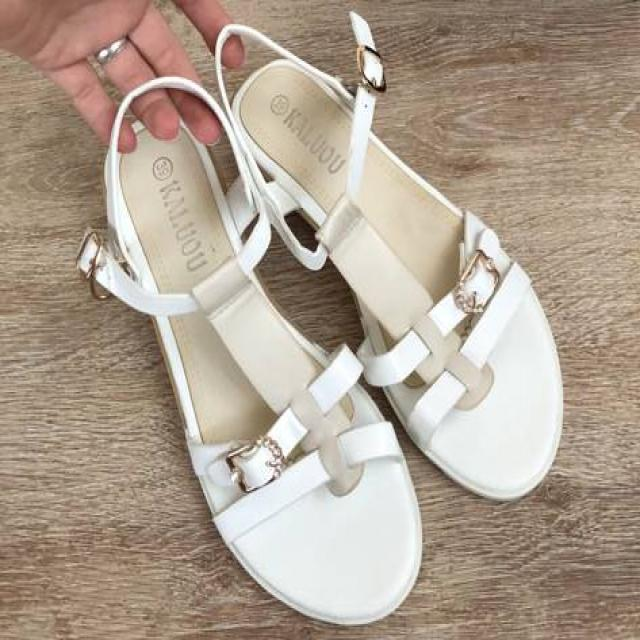Clothes -Biodegradable-: (80, 17, 562, 628)
